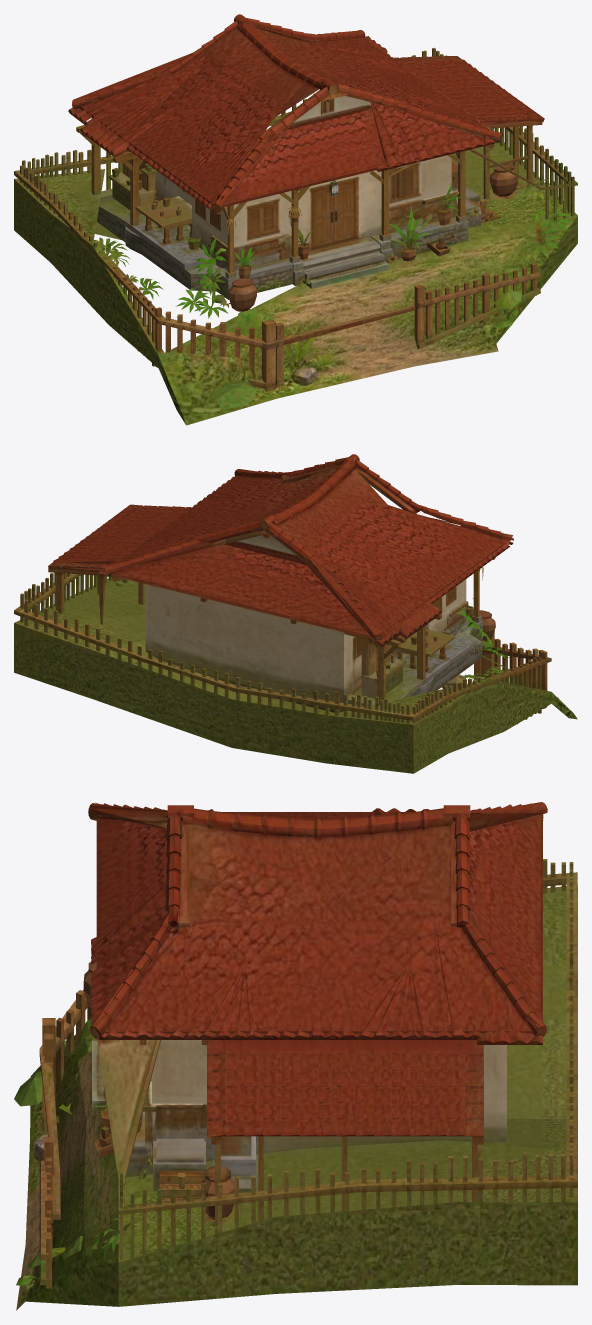
Rendered from player_house_repaired_v3.glb.
3 views of the same model, one above another, from view 1: azimuth 30°, elevation 25°; view 2: azimuth 150°, elevation 25°; view 3: azimuth 270°, elevation 25° (orthographic). The views are drawn at different scales.
Visible parts, largest first — view 1: fd7171a2_eb30_413d_8df2_d9e82dbf09a3; view 2: fd7171a2_eb30_413d_8df2_d9e82dbf09a3; view 3: fd7171a2_eb30_413d_8df2_d9e82dbf09a3.
Boxes of the visible parts, x1=… form: fd7171a2_eb30_413d_8df2_d9e82dbf09a3: x1=14, y1=14, x2=577, y2=425; fd7171a2_eb30_413d_8df2_d9e82dbf09a3: x1=14, y1=454, x2=577, y2=773; fd7171a2_eb30_413d_8df2_d9e82dbf09a3: x1=14, y1=802, x2=577, y2=1310.
Bounding box in the file's own units: 7.5 × 4.5 × 5.5.
1 material, 1 textured.
